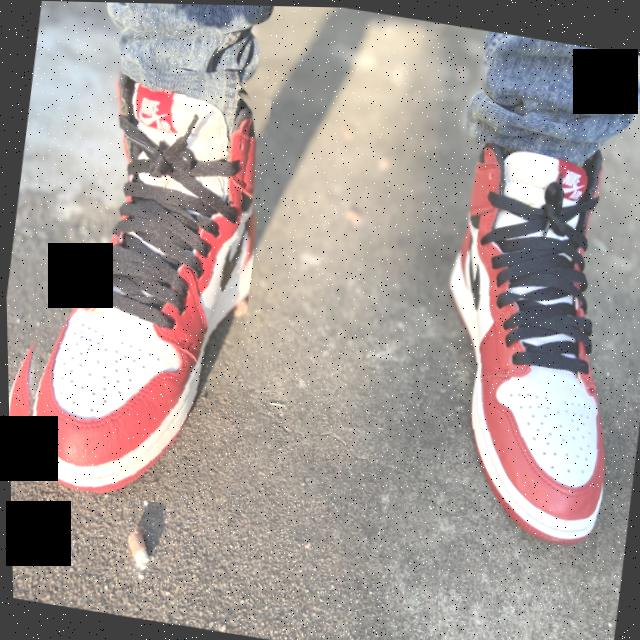shoe: (1, 50, 281, 514), (402, 118, 640, 553)
